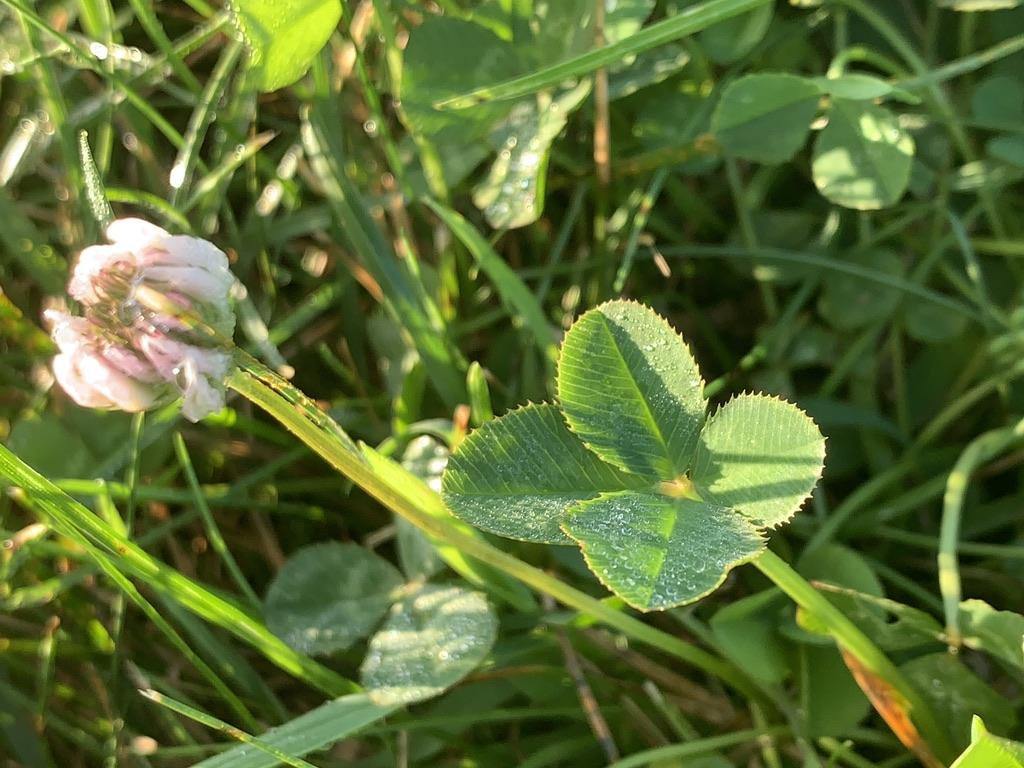4-Leaf-Clovers: (405, 146, 816, 432)
